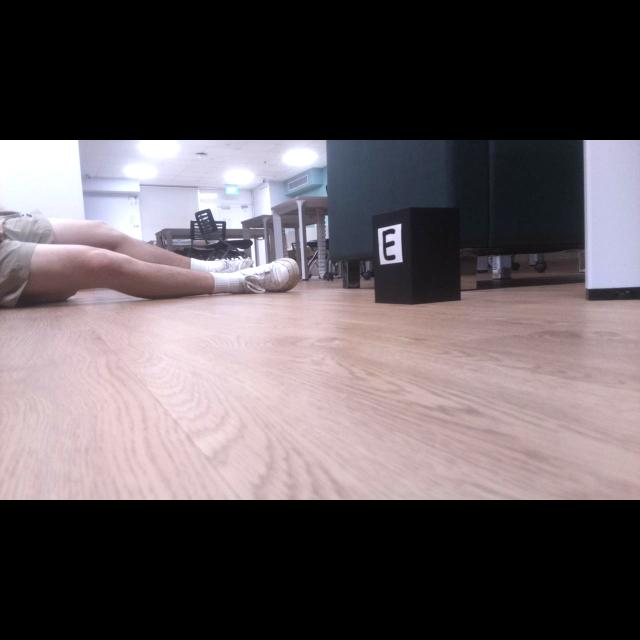E: (382, 229, 396, 260)
